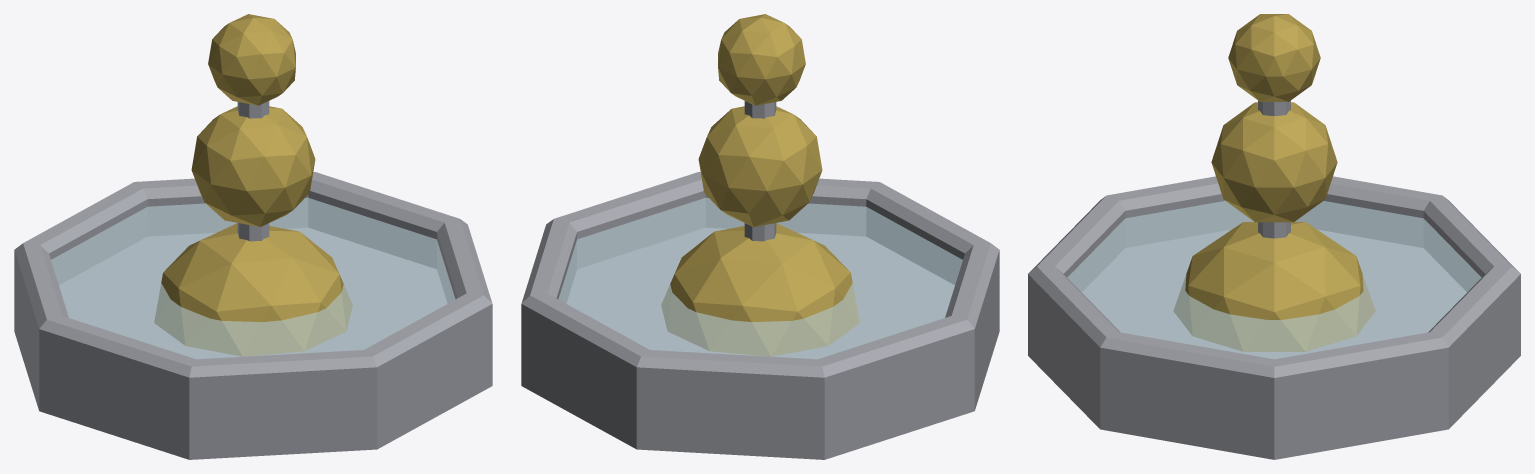
Rendered from fantasy_fountain_1.fbx.
3 renders of one model, left to right at view 1: azimuth 30°, elevation 25°; view 2: azimuth 150°, elevation 25°; view 3: azimuth 270°, elevation 25°, orthographic.
Parts seen in each view (by area): view 1: Cylinder.016; view 2: Cylinder.016; view 3: Cylinder.016.
Boxes of the visible parts, x1,y1,x2,y2 form: Cylinder.016: (14, 14, 492, 459); Cylinder.016: (521, 14, 999, 459); Cylinder.016: (1028, 14, 1520, 459).
Bounding box in the file's own units: 300 × 228 × 300.
